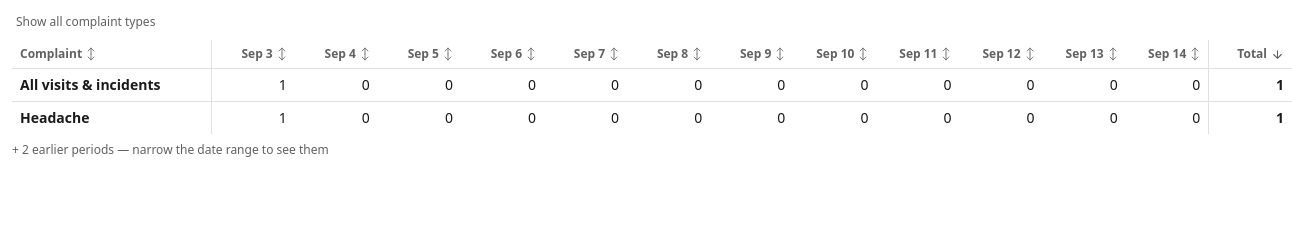
Test: TrendTable › hides zero-activity rows in the visible window and reveals them with the toggle
Check: the row "No activity" is not shown
Check: the row "Earlier only" is not shown
Click the button "Show all complaint types".
click(86, 22)  # box x1=12 y1=12 x2=159 y2=32
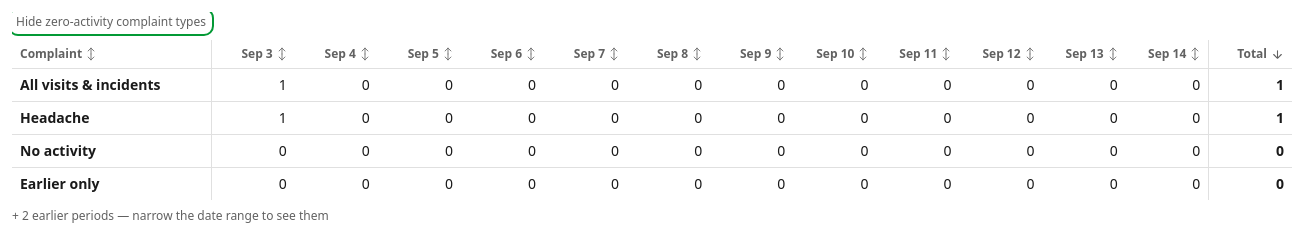
Check: the row "No activity 0 0 0 0 0 0 0 0 0 0 0 0 0" is shown, box x1=12 y1=134 x2=1291 y2=168
Check: the row "Earlier only 0 0 0 0 0 0 0 0 0 0 0 0 0" is shown, box x1=12 y1=168 x2=1291 y2=200
Check: the text "0" is shown, box x1=1209 y1=168 x2=1291 y2=200
